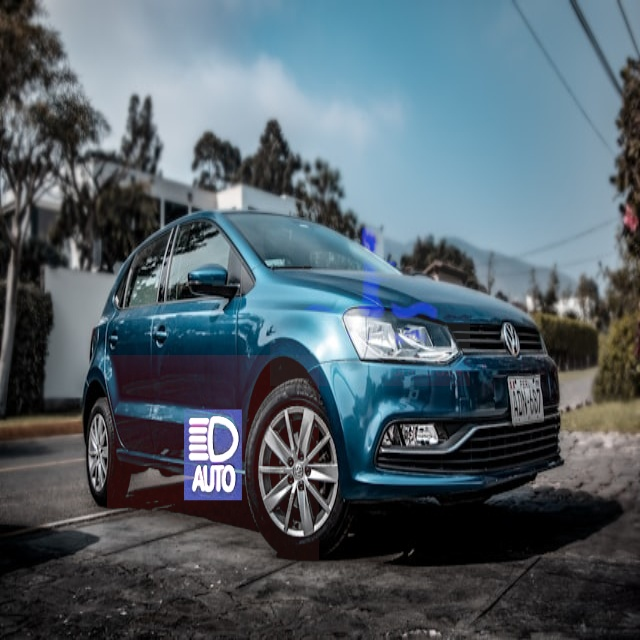symbol: (107, 355, 319, 567), (270, 186, 470, 386)
